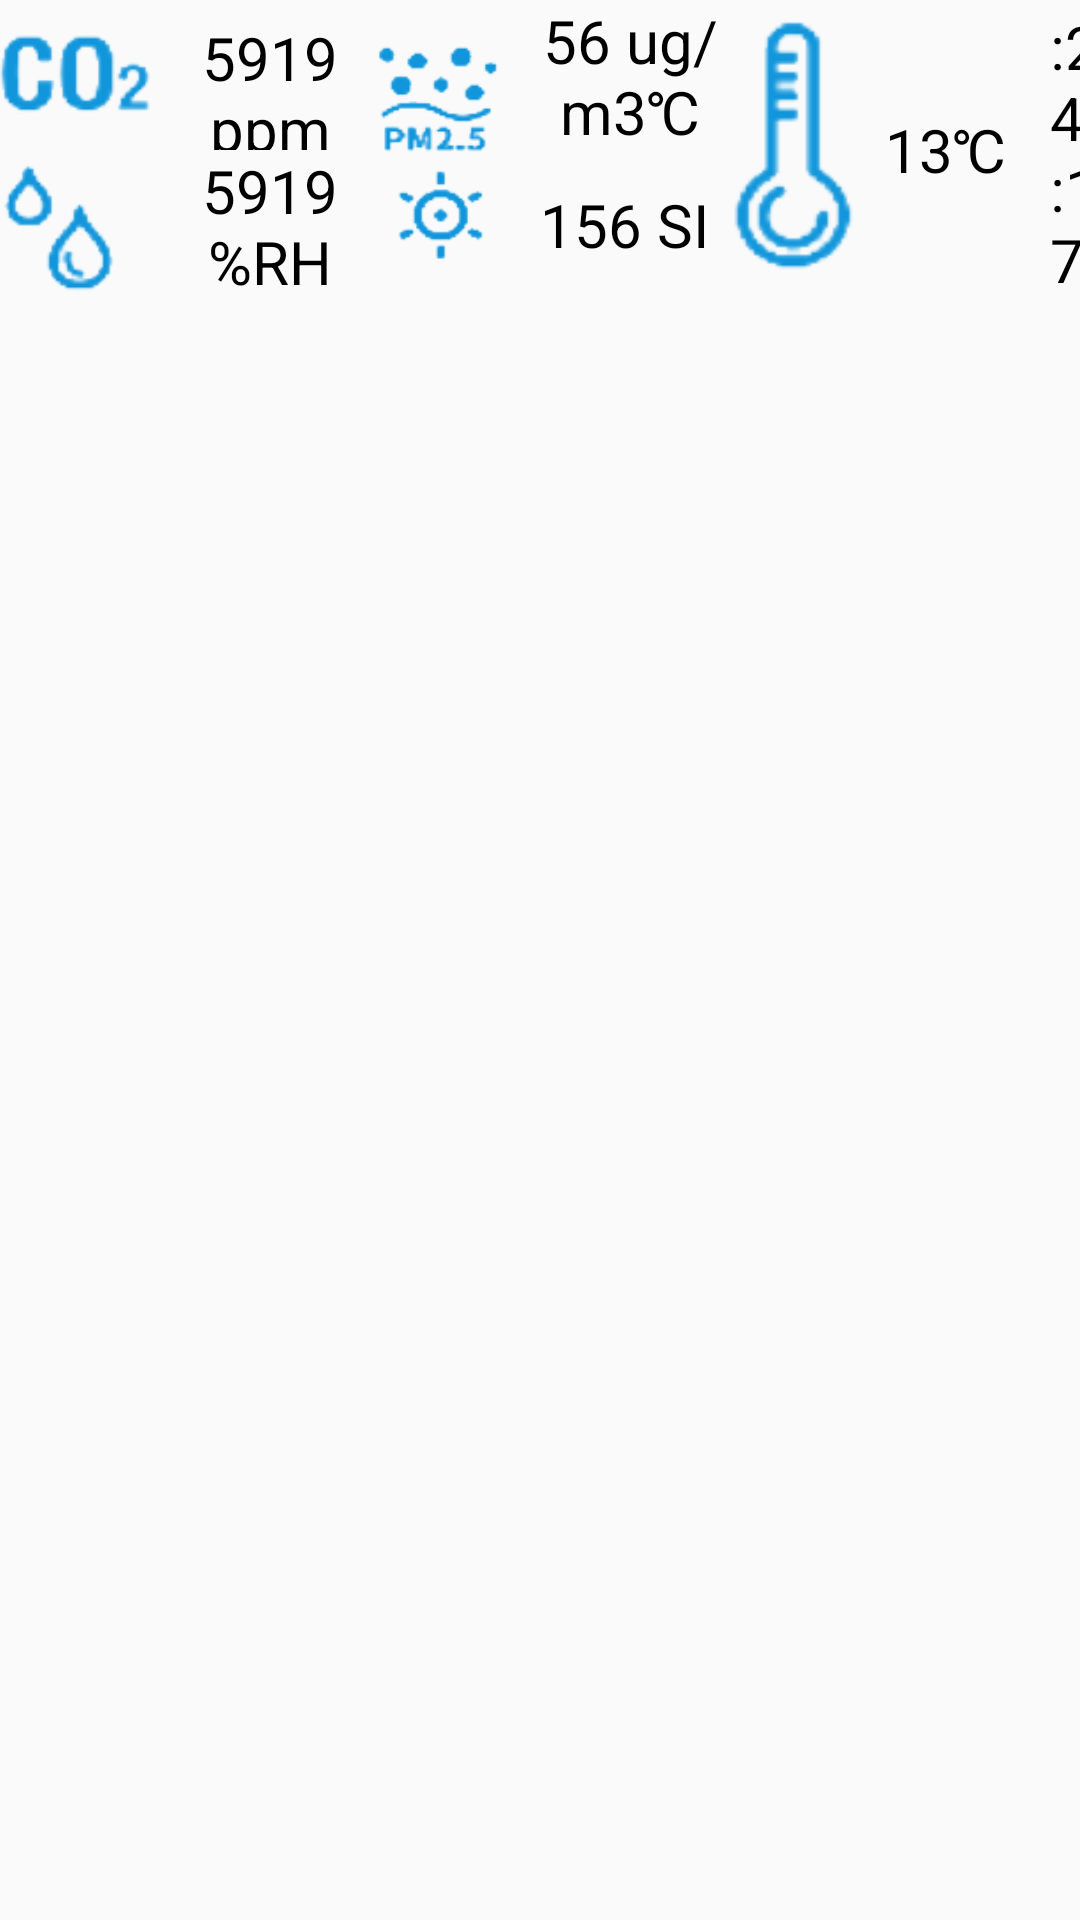

Named icons in this screenshot (1080×1920) and their bounding boxes, region(x1, y1, x2, y2):
pmyangguang: region(379, 47, 497, 259)
shuidi: region(4, 166, 113, 290)
wenduji: region(735, 22, 852, 269)
